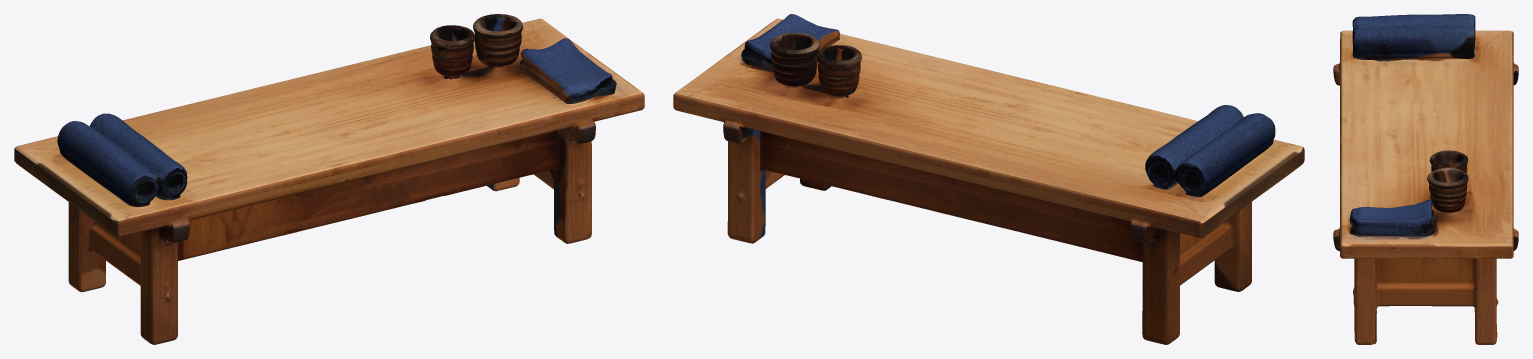
The model's file is traveler_env_coast_kamen_sweet_cup_counter_00001_.glb.
3 views of the same model, side by side, from view 1: azimuth 30°, elevation 25°; view 2: azimuth 150°, elevation 25°; view 3: azimuth 270°, elevation 25° (orthographic). The views are drawn at different scales.
Parts seen in each view (by area): view 1: temp_mesh.ply; view 2: temp_mesh.ply; view 3: temp_mesh.ply.
Boxes of the visible parts, x1,y1,x2,y2 form: temp_mesh.ply: (14, 14, 644, 344); temp_mesh.ply: (673, 14, 1304, 344); temp_mesh.ply: (1333, 14, 1518, 344).
Size of the model in its own units: 1.97 by 0.6625 by 0.7184.
1 material, 1 textured.
